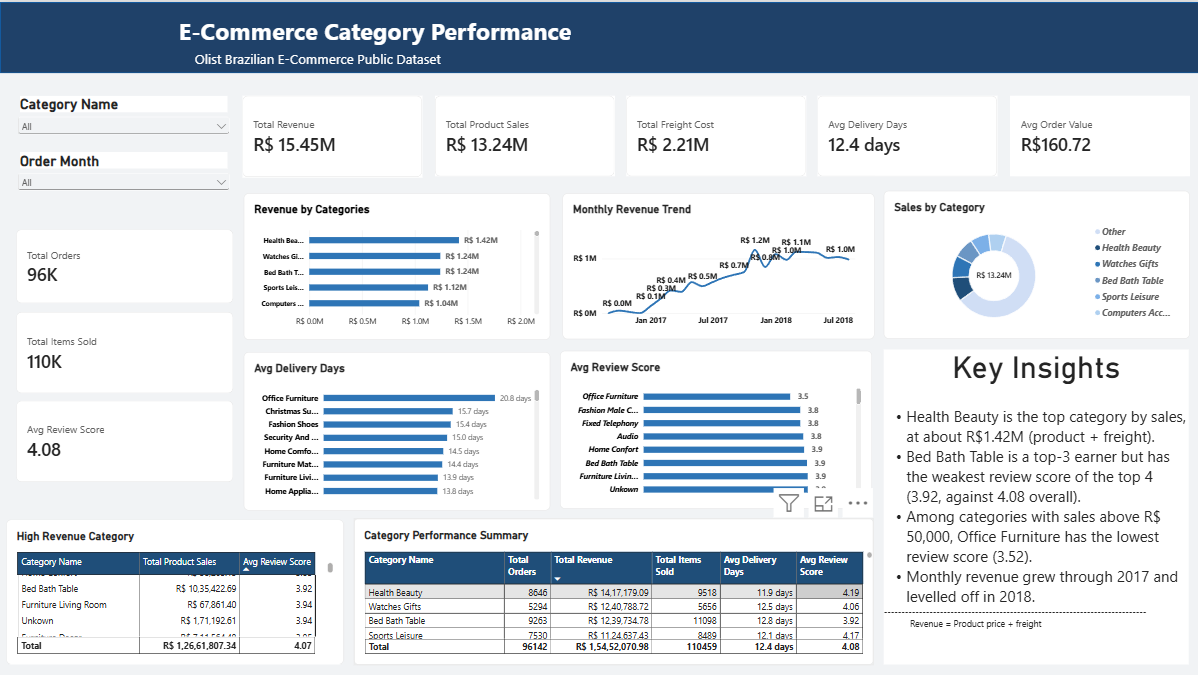

Layout of this report page (visuals, bound fields, positions):
{"tool":"powerbi","page":{"name":"Page 1","canvas":[1920,1080],"ordinal":0},"visuals":[{"type":"shape","box":[0,0,1920,114],"z":500},{"type":"textbox","box":[244.2,19.2,816.3,75],"z":1000},{"type":"cardVisual","fields":{"Data":["category_performance.Avg Delivery Days"]},"box":[1308.6,150,287.8,129.1],"z":2000},{"type":"textbox","box":[226.7,75,523.3,29.7],"z":3000},{"type":"cardVisual","fields":{"Data":["Sum(category_performance.Product Sales)"]},"box":[695.5,150,287.8,129.1],"z":4000},{"type":"cardVisual","fields":{"Data":["category_performance.Total Revenue"]},"box":[389,150,287.8,130.8],"z":5000},{"type":"cardVisual","fields":{"Data":["Sum(category_performance.freight_cost)"]},"box":[1002,150,287.8,129.1],"z":6000},{"type":"clusteredBarChart","title":"Revenue by Categories","fields":{"Category":["category_performance.category_name"],"Y":["category_performance.Total Revenue"]},"box":[390,306,490.1,234.6],"z":7000},{"type":"clusteredBarChart","title":"Avg Review Score","fields":{"Category":["category_performance.Category Name"],"Y":["category_performance.Avg Review Score"]},"box":[896,558,498.8,252.9],"z":8000},{"type":"lineChart","title":"Monthly Revenue Trend","fields":{"Category":["category_performance.Order Month"],"Y":["category_performance.Total Revenue"]},"box":[900,306,498.8,233.7],"z":9000},{"type":"clusteredBarChart","title":"Avg Delivery Days","fields":{"Category":["category_performance.Category Name"],"Y":["category_performance.Avg Delivery Days"]},"box":[389.5,559.2,490.1,253.4],"z":10000},{"type":"tableEx","title":"Category Performance Summary","fields":{"Values":["category_performance.Category Name","category_performance.Total Orders","category_performance.Total Revenue","category_performance.Total Items Sold","category_performance.Avg Delivery Days","category_performance.Avg Review Score"]},"box":[566,826,832,234],"z":11000},{"type":"slicer","fields":{"Values":["category_performance.Category Name"]},"box":[24,150,348,90],"z":12000},{"type":"slicer","fields":{"Values":["category_performance.Order Month"]},"box":[24,240,348,96],"z":13000},{"type":"cardVisual","title":"Total Orders","fields":{"Data":["category_performance.Total Orders"]},"box":[26.2,364.5,347.1,118.6],"z":14000},{"type":"cardVisual","fields":{"Data":["category_performance.Avg Review Score","category_performance.Avg Review Score"]},"box":[26.2,638.4,347.1,130.8],"z":15000},{"type":"cardVisual","fields":{"Data":["category_performance.Total Items Sold"]},"box":[26.2,495.4,347.1,130.8],"z":16000},{"type":"cardVisual","fields":{"Data":["category_performance.Avg Order Value"]},"box":[1615.1,150,287.8,129.1],"z":17000},{"type":"tableEx","title":"High Revenue Category","fields":{"Values":["category_performance.Category Name","Sum(category_performance.Product Sales)","category_performance.Avg Review Score"]},"box":[10,828,540,232],"z":18000},{"type":"donutChart","title":"Sales by Category","fields":{"Category":["category_performance.Category Name (groups)"],"Y":["Sum(category_performance.Product Sales)"]},"box":[1414,302,489.9,236.7],"z":19000},{"type":"textbox","title":"Key Insights","box":[1414,556,488.4,504.1],"z":20000}]}

Visuals, with their boxes in screenshot pixels (x1, y1, x2, y2), scaled from the page's 1920x1080 canvas onto the 1198x675 screenshot:
shape: select_region(0, 0, 1197, 71)
textbox: select_region(152, 12, 662, 59)
cardVisual - category_performance.Avg Delivery Days: select_region(817, 94, 996, 174)
textbox: select_region(141, 47, 468, 65)
cardVisual - Sum(category_performance.Product Sales): select_region(434, 94, 614, 174)
cardVisual - category_performance.Total Revenue: select_region(243, 94, 422, 176)
cardVisual - Sum(category_performance.freight_cost): select_region(625, 94, 805, 174)
"Revenue by Categories" clusteredBarChart: select_region(243, 191, 549, 338)
"Avg Review Score" clusteredBarChart: select_region(559, 349, 870, 507)
"Monthly Revenue Trend" lineChart: select_region(562, 191, 873, 337)
"Avg Delivery Days" clusteredBarChart: select_region(243, 350, 549, 508)
"Category Performance Summary" tableEx: select_region(353, 516, 872, 662)
slicer - category_performance.Category Name: select_region(15, 94, 232, 150)
slicer - category_performance.Order Month: select_region(15, 150, 232, 210)
"Total Orders" cardVisual: select_region(16, 228, 233, 302)
cardVisual - category_performance.Avg Review Score x category_performance.Avg Review Score: select_region(16, 399, 233, 481)
cardVisual - category_performance.Total Items Sold: select_region(16, 310, 233, 391)
cardVisual - category_performance.Avg Order Value: select_region(1008, 94, 1187, 174)
"High Revenue Category" tableEx: select_region(6, 518, 343, 662)
"Sales by Category" donutChart: select_region(882, 189, 1188, 337)
"Key Insights" textbox: select_region(882, 348, 1187, 663)
